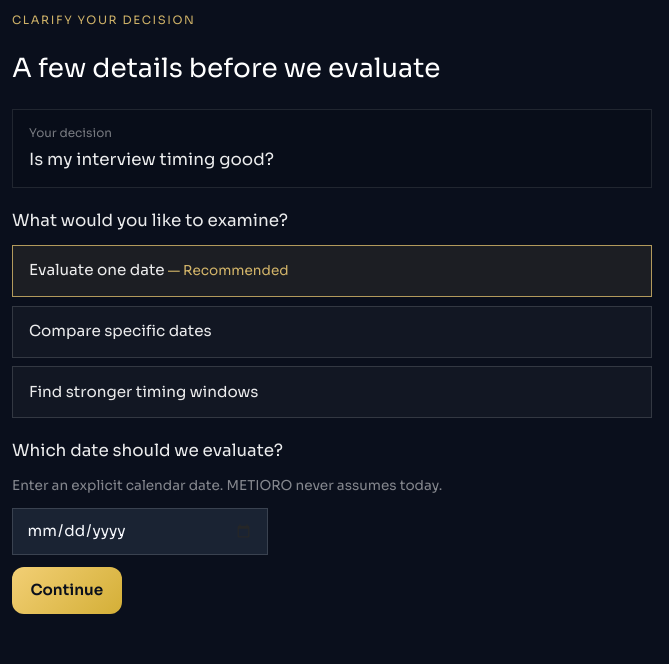
Test: AskClarificationFlow product recovery › does not invent a date when continuing without input
Click the button with test id "ask-date-continue". click: (67, 590)
box: [12,567,122,614]
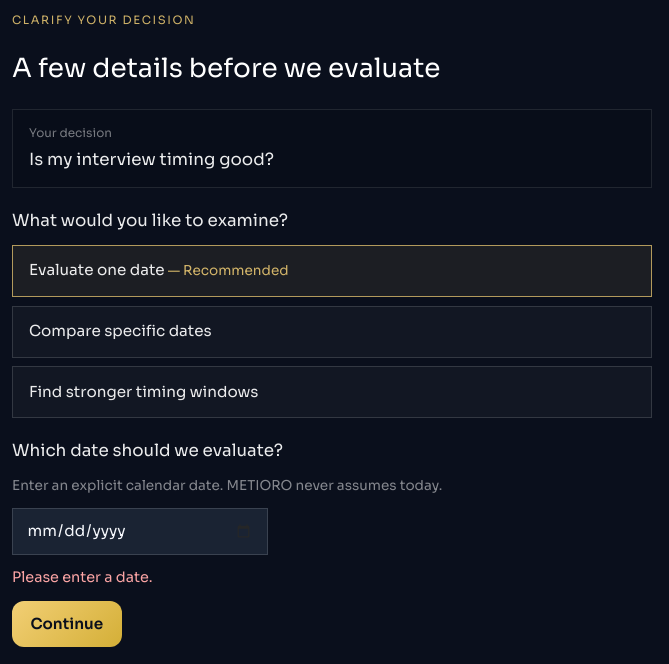
Expected: the text "Please enter a date." is shown, [12,568,153,586]
